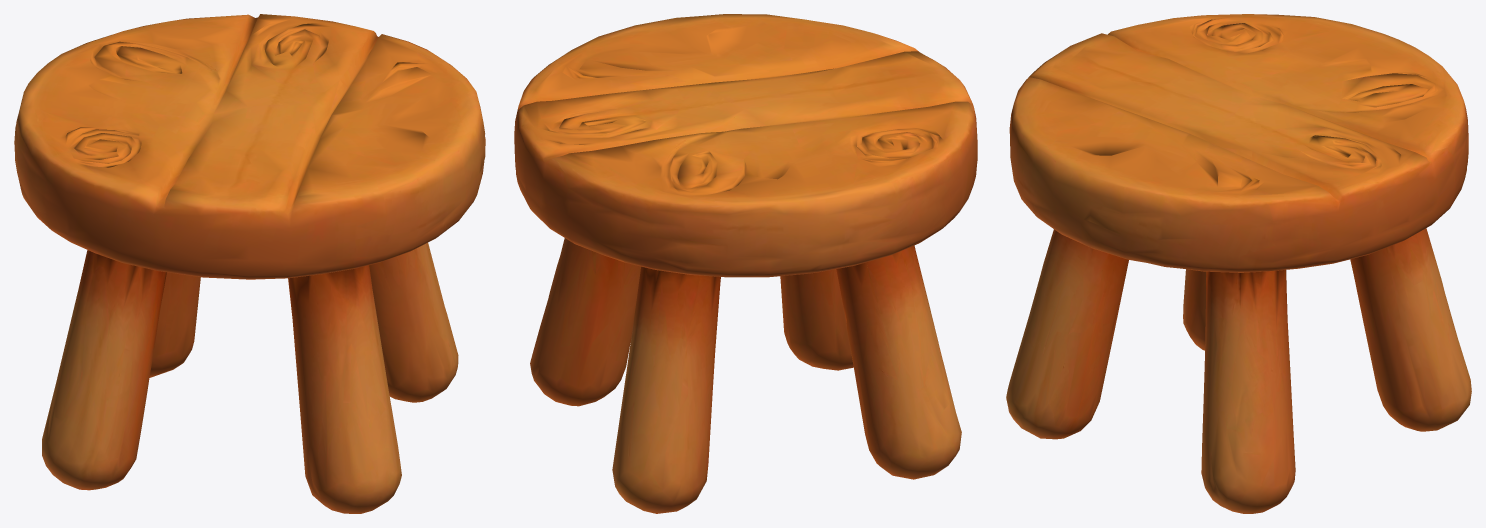
The model's file is hocker_wald_a.glb.
3 views of the same model, side by side, from view 1: azimuth 30°, elevation 25°; view 2: azimuth 150°, elevation 25°; view 3: azimuth 270°, elevation 25° (orthographic). The views are drawn at different scales.
Parts seen in each view (by area): view 1: tripo_node_0bee23a0-9cec-4725-b23b-aaa77da045f4; view 2: tripo_node_0bee23a0-9cec-4725-b23b-aaa77da045f4; view 3: tripo_node_0bee23a0-9cec-4725-b23b-aaa77da045f4.
Part boxes in pixels (x1,y1,x2,y2): tripo_node_0bee23a0-9cec-4725-b23b-aaa77da045f4: (14,14,485,513); tripo_node_0bee23a0-9cec-4725-b23b-aaa77da045f4: (514,14,977,513); tripo_node_0bee23a0-9cec-4725-b23b-aaa77da045f4: (1006,14,1471,513).
Size of the model in its own units: 1.01 by 0.7832 by 1.01.
Materials: 1 (1 with a texture image).
